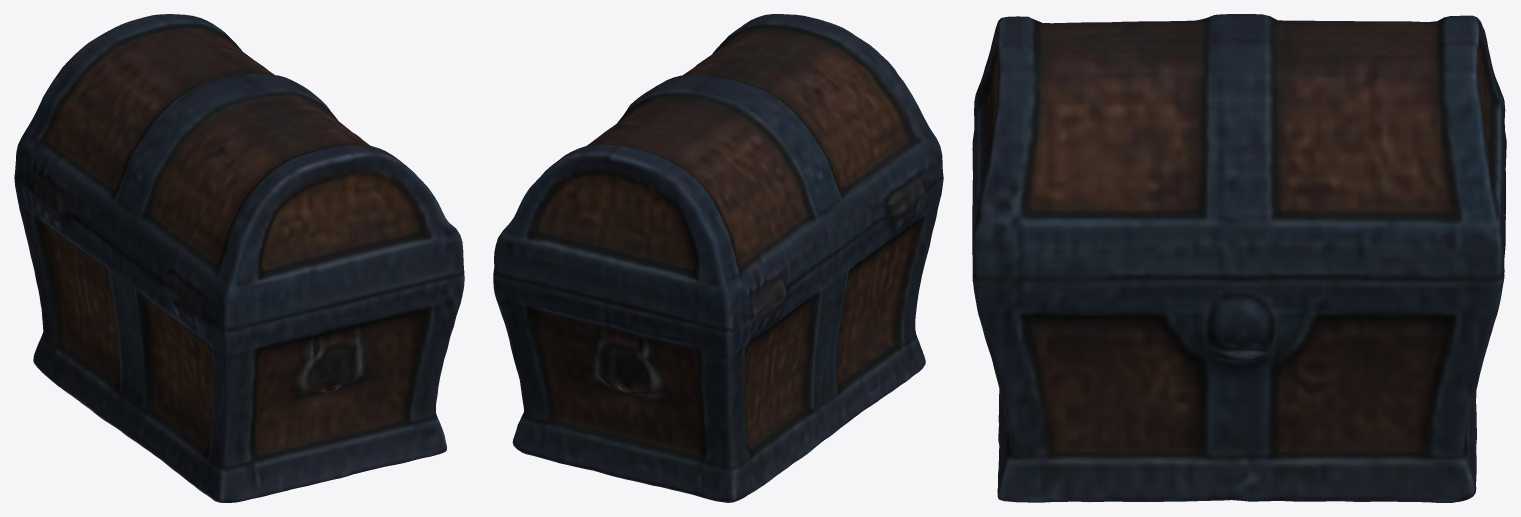
Rendered from 0a150645970d_old_chest__3d_asset.fbx.
3 renders of one model, left to right at view 1: azimuth 30°, elevation 25°; view 2: azimuth 150°, elevation 25°; view 3: azimuth 270°, elevation 25°, orthographic. The views are drawn at different scales.
Visible parts, largest first — view 1: mesh; view 2: mesh; view 3: mesh.
Boxes of the visible parts, x1,y1,x2,y2 form: mesh: (14, 14, 464, 502); mesh: (493, 14, 943, 502); mesh: (972, 14, 1506, 502).
Size of the model in its own units: 68.39 by 83.05 by 99.78.
